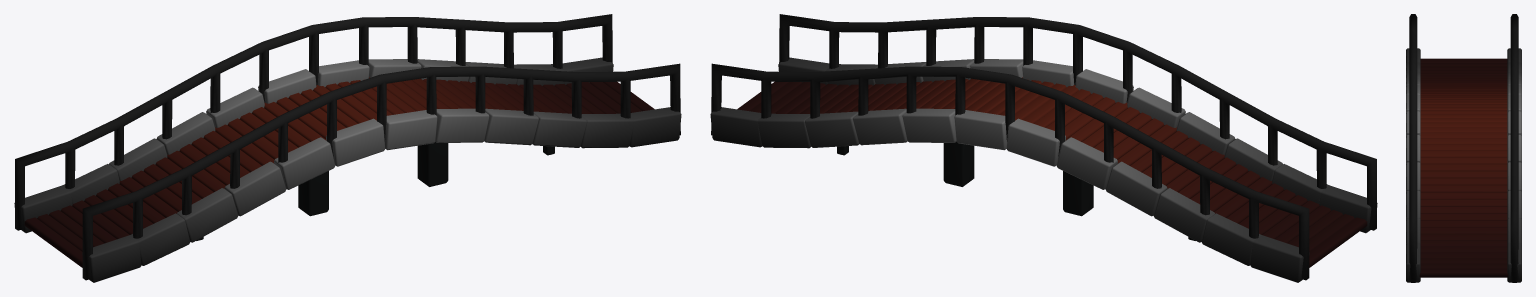
The model's file is Bridge.fbx.
3 renders of one model, left to right at view 1: azimuth 30°, elevation 25°; view 2: azimuth 150°, elevation 25°; view 3: azimuth 270°, elevation 25°, orthographic. The views are drawn at different scales.
Visible parts, largest first — view 1: merge1_0; view 2: merge1_0; view 3: merge1_0.
Part boxes in pixels (x1,y1,x2,y2): merge1_0: (14,14,681,282); merge1_0: (710,14,1377,282); merge1_0: (1406,14,1521,282).
Bounding box in the file's own units: 10.15 × 2.19 × 2.29.
